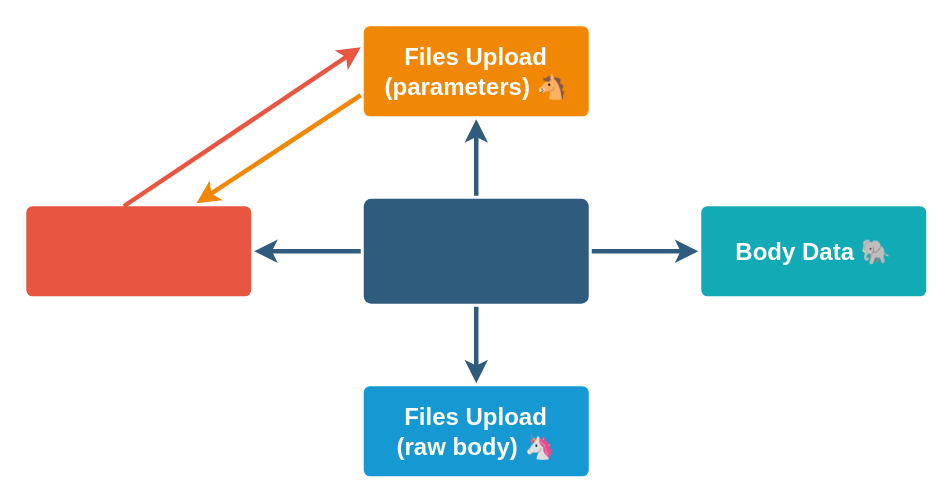
This 951x501 diagram has some shape labels left out. Each missing label, with the box of its shape:
HTTP Request: Basic: (363, 198, 588, 303)
Parameters ☀️: (26, 206, 250, 296)
